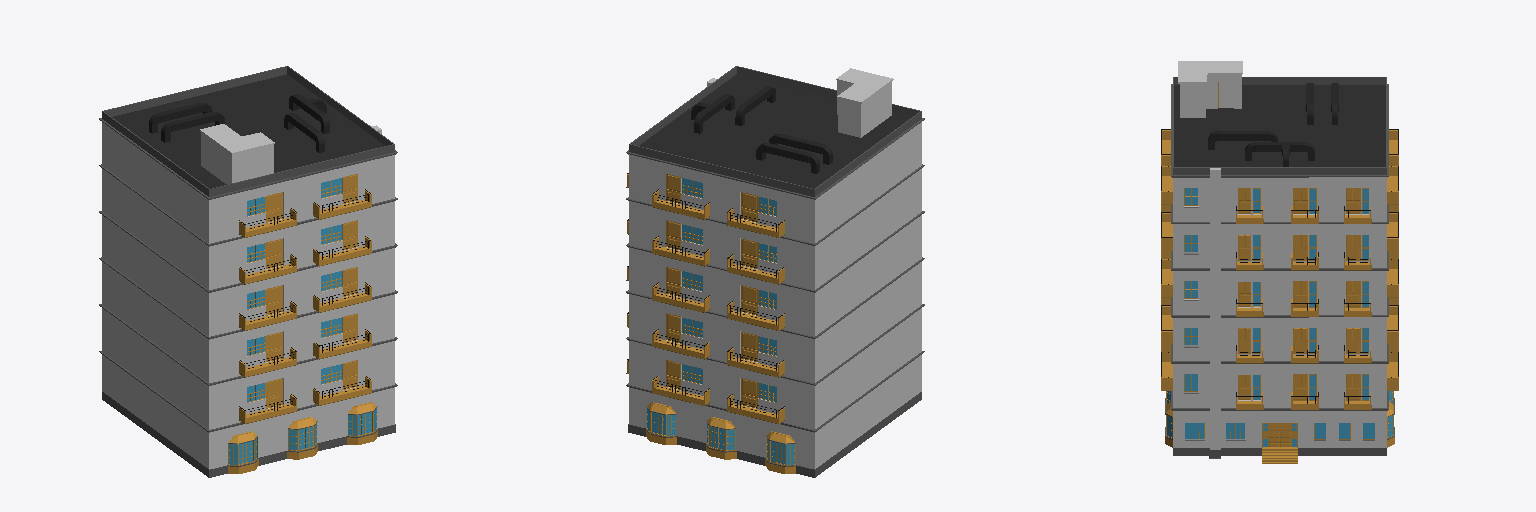
The model's file is building.obj.
3 views of the same model, side by side, from view 1: azimuth 30°, elevation 25°; view 2: azimuth 150°, elevation 25°; view 3: azimuth 270°, elevation 25° (orthographic).
Parts seen in each view (by area): view 1: Floors, Roof, Ground_Floor, side_windows; view 2: Floors, Roof, Ground_Floor, side_windows; view 3: Floors, Roof, Ground_Floor, Main_Door, side_windows, Stairs.
Boxes of the visible parts, x1=… form: Floors: x1=99, y1=164, x2=397, y2=429; Roof: x1=99, y1=66, x2=397, y2=243; Ground_Floor: x1=99, y1=351, x2=397, y2=477; side_windows: x1=227, y1=402, x2=377, y2=473; Floors: x1=626, y1=164, x2=924, y2=429; Roof: x1=626, y1=66, x2=924, y2=243; Ground_Floor: x1=626, y1=351, x2=924, y2=477; side_windows: x1=646, y1=402, x2=796, y2=473; Floors: x1=1161, y1=205, x2=1398, y2=410; Roof: x1=1161, y1=61, x2=1398, y2=224; Ground_Floor: x1=1171, y1=391, x2=1388, y2=458; Main_Door: x1=1262, y1=423, x2=1297, y2=447; side_windows: x1=1165, y1=391, x2=1394, y2=447; Stairs: x1=1262, y1=448, x2=1297, y2=463.
Size of the model in its own units: 2.2 by 3.25 by 2.22.